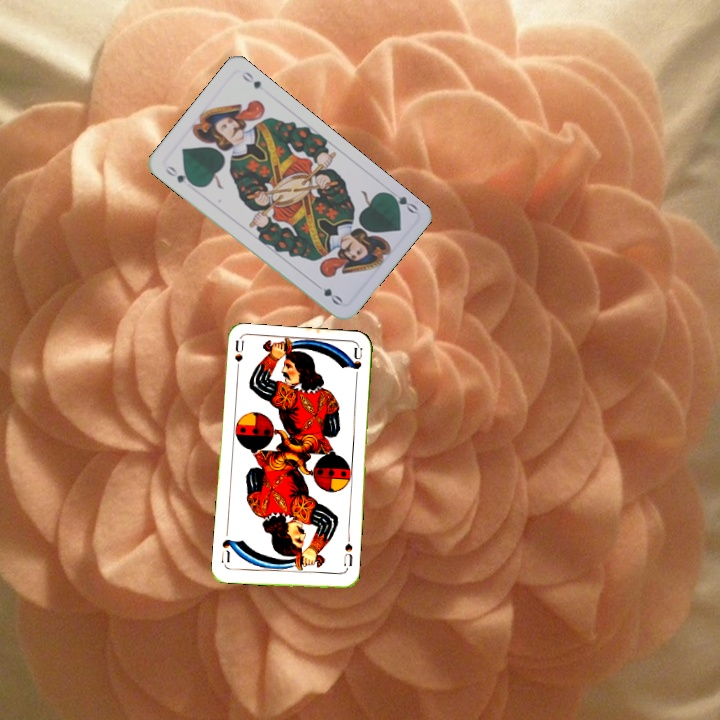GO: (382, 188, 420, 216), (161, 162, 197, 188)
SU: (231, 338, 246, 378), (339, 534, 355, 569)
